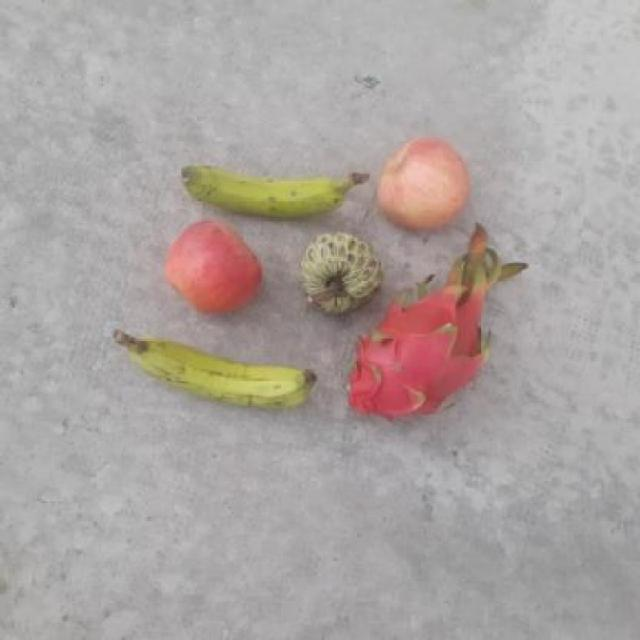apple: (163, 214, 269, 315), (370, 132, 468, 230)
banana: (130, 329, 319, 416), (176, 151, 355, 226)
dragon fruit: (339, 288, 499, 429)
sugar apple: (299, 230, 387, 316)
